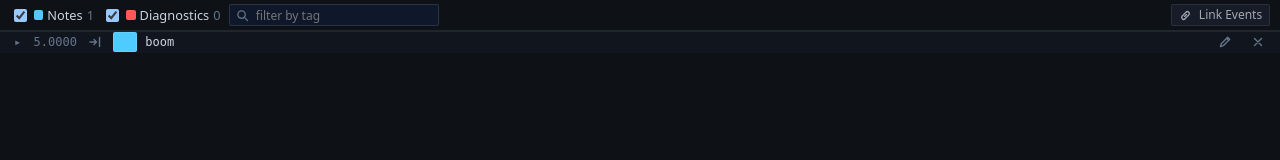
Scenario: event row focus and editing › abandons a rename on Escape without committing the draft
Click the button named "rename event" at point(1225, 42), box [1212,35,1237,49]
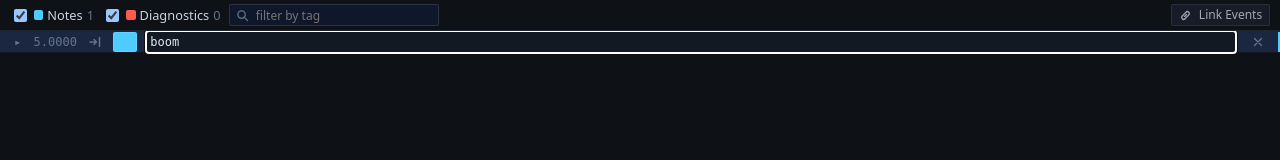
Replace the text in the field named "event label" with "crunch" at point(691, 42), box [145,30,1237,54]
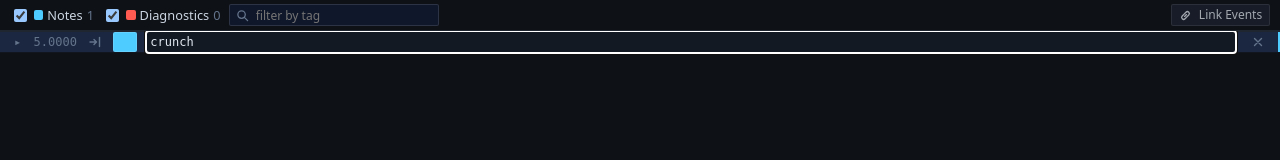
Press Escape in the field named "event label", box [145,30,1237,54]
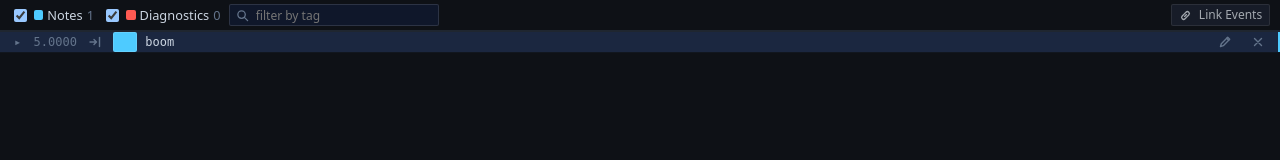
expect the text "boom" is shown: met, box [145,31,174,53]
